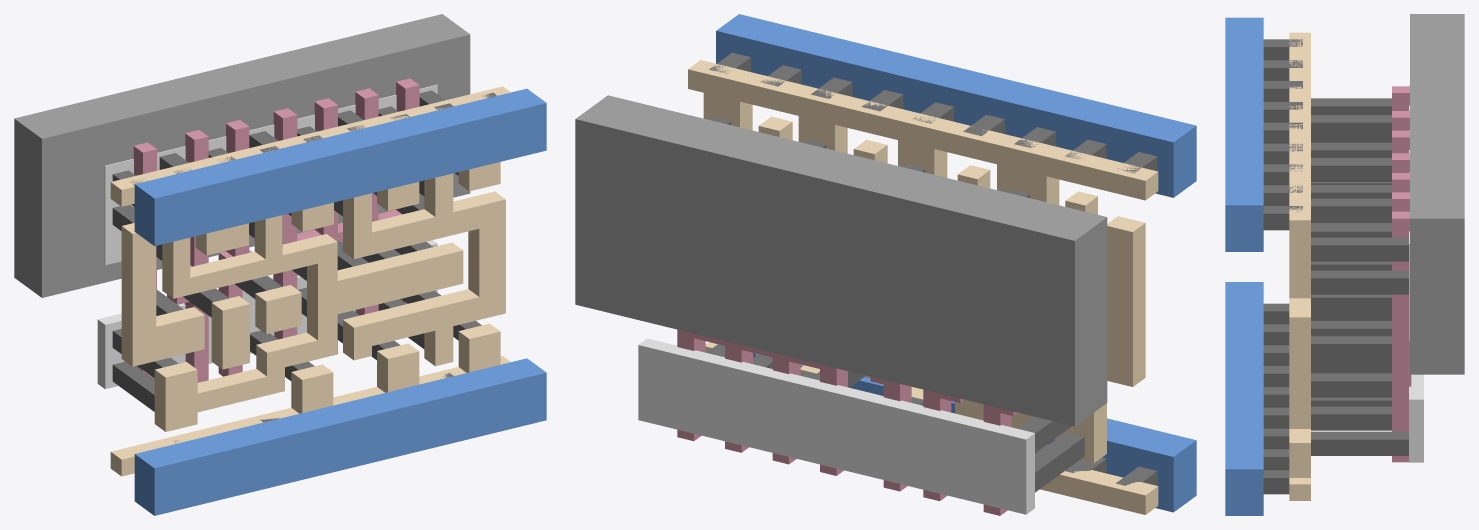
File: sky130_fd_sc_hd__and3_4.gds.gltf
3 views of the same model, side by side, from view 1: azimuth 30°, elevation 25°; view 2: azimuth 150°, elevation 25°; view 3: azimuth 270°, elevation 25° (orthographic). The views are drawn at different scales.
Visible parts, largest first — view 1: sky130_fd_sc_hd__and3_4_li1, sky130_fd_sc_hd__and3_4_met1, sky130_fd_sc_hd__and3_4_nwell, sky130_fd_sc_hd__and3_4_licon, sky130_fd_sc_hd__and3_4_poly, sky130_fd_sc_hd__and3_4_diff, sky130_fd_sc_hd__and3_4_mcon; view 2: sky130_fd_sc_hd__and3_4_nwell, sky130_fd_sc_hd__and3_4_li1, sky130_fd_sc_hd__and3_4_diff, sky130_fd_sc_hd__and3_4_met1, sky130_fd_sc_hd__and3_4_mcon, sky130_fd_sc_hd__and3_4_poly, sky130_fd_sc_hd__and3_4_licon; view 3: sky130_fd_sc_hd__and3_4_licon, sky130_fd_sc_hd__and3_4_nwell, sky130_fd_sc_hd__and3_4_met1, sky130_fd_sc_hd__and3_4_mcon, sky130_fd_sc_hd__and3_4_li1, sky130_fd_sc_hd__and3_4_poly, sky130_fd_sc_hd__and3_4_diff.
Part boxes in pixels (left/top/right/bottom): sky130_fd_sc_hd__and3_4_li1: left=110, top=86, right=510, bottom=476; sky130_fd_sc_hd__and3_4_met1: left=134, top=88, right=546, bottom=515; sky130_fd_sc_hd__and3_4_nwell: left=14, top=14, right=470, bottom=297; sky130_fd_sc_hd__and3_4_licon: left=112, top=90, right=481, bottom=411; sky130_fd_sc_hd__and3_4_poly: left=133, top=78, right=419, bottom=382; sky130_fd_sc_hd__and3_4_diff: left=97, top=84, right=437, bottom=389; sky130_fd_sc_hd__and3_4_mcon: left=129, top=92, right=497, bottom=442; sky130_fd_sc_hd__and3_4_nwell: left=575, top=95, right=1107, bottom=426; sky130_fd_sc_hd__and3_4_li1: left=688, top=60, right=1158, bottom=514; sky130_fd_sc_hd__and3_4_diff: left=638, top=338, right=1034, bottom=514; sky130_fd_sc_hd__and3_4_met1: left=716, top=14, right=1196, bottom=512; sky130_fd_sc_hd__and3_4_mcon: left=709, top=52, right=1157, bottom=485; sky130_fd_sc_hd__and3_4_poly: left=677, top=329, right=1017, bottom=515; sky130_fd_sc_hd__and3_4_licon: left=706, top=117, right=1084, bottom=492; sky130_fd_sc_hd__and3_4_licon: left=1311, top=98, right=1408, bottom=455; sky130_fd_sc_hd__and3_4_nwell: left=1410, top=14, right=1464, bottom=374; sky130_fd_sc_hd__and3_4_met1: left=1225, top=17, right=1263, bottom=515; sky130_fd_sc_hd__and3_4_mcon: left=1263, top=39, right=1302, bottom=494; sky130_fd_sc_hd__and3_4_li1: left=1289, top=32, right=1310, bottom=500; sky130_fd_sc_hd__and3_4_poly: left=1392, top=86, right=1411, bottom=462; sky130_fd_sc_hd__and3_4_diff: left=1409, top=85, right=1423, bottom=462.
Bounding box in the file's own units: 4.52 × 3.2 × 2.24.
